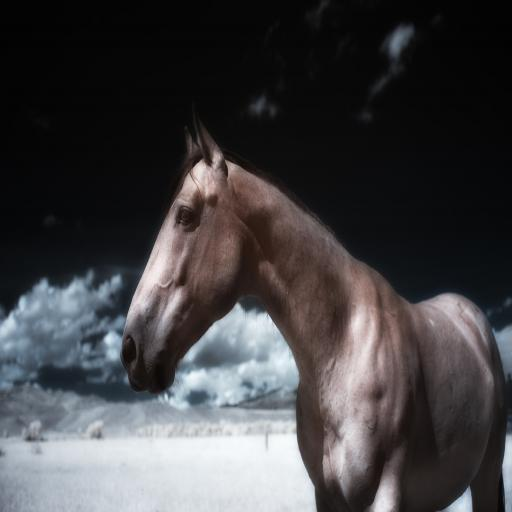Horse: (121, 111, 507, 511)
